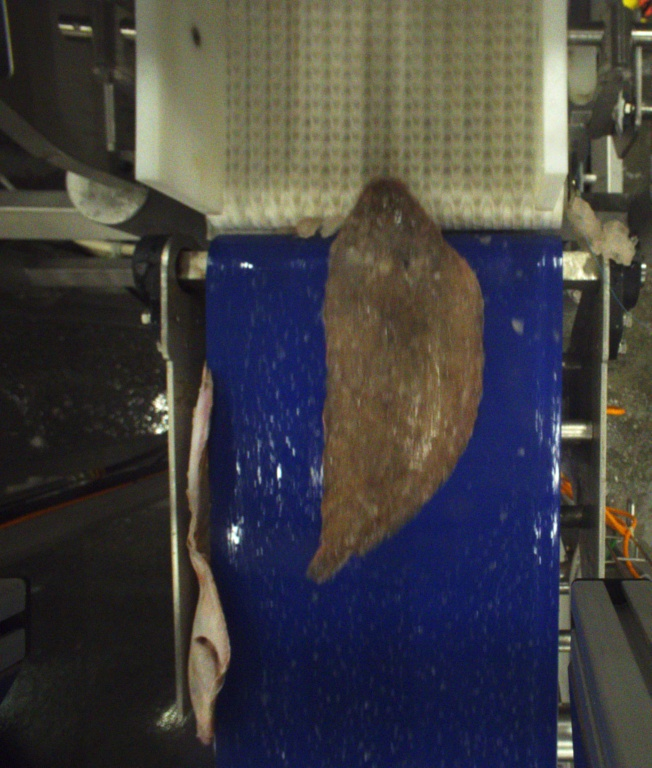SOL: (312, 175, 486, 583)
